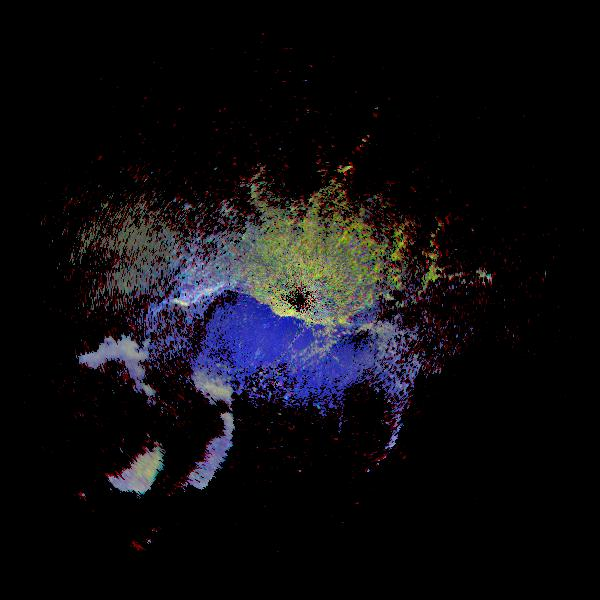roost: (12, 317, 210, 515), (79, 336, 256, 513)
